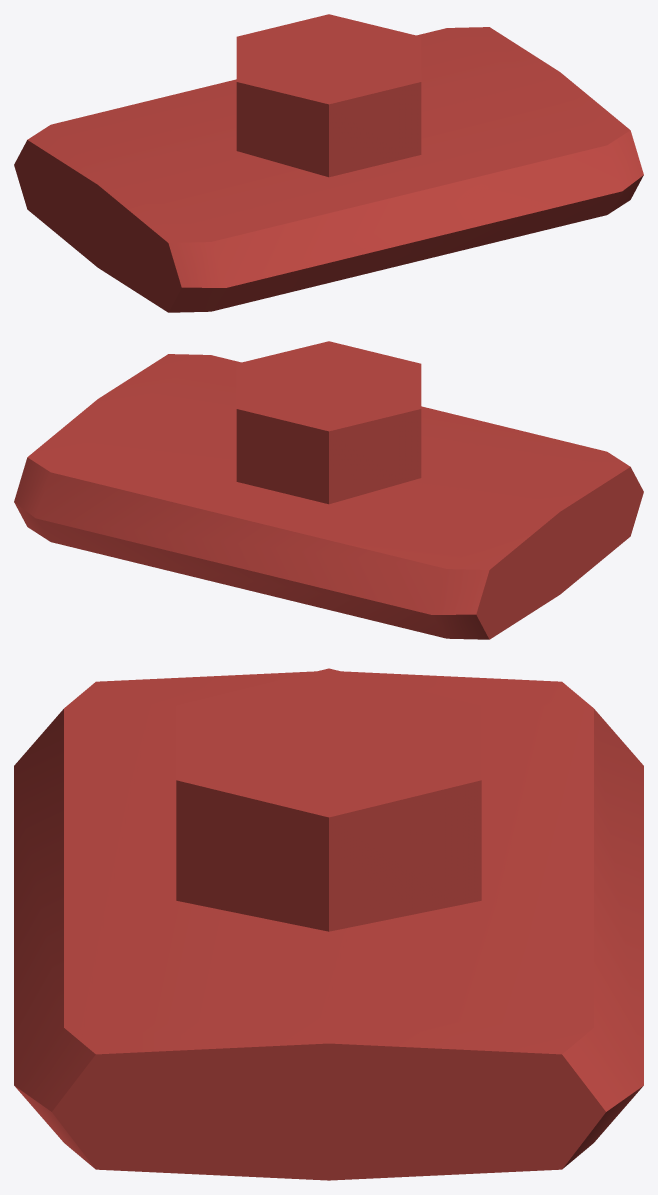
Rendered from foot_lod1.glb.
3 renders of one model, top to bottom at view 1: azimuth 30°, elevation 25°; view 2: azimuth 150°, elevation 25°; view 3: azimuth 270°, elevation 25°, orthographic. The views are drawn at different scales.
Parts seen in each view (by area): view 1: foot_lod1; view 2: foot_lod1; view 3: foot_lod1.
Boxes of the visible parts, left/top/right/bottom form: foot_lod1: left=14, top=14, right=643, bottom=312; foot_lod1: left=14, top=341, right=643, bottom=639; foot_lod1: left=14, top=668, right=643, bottom=1180.
Size of the model in its own units: 0.07 by 0.022 by 0.05.
